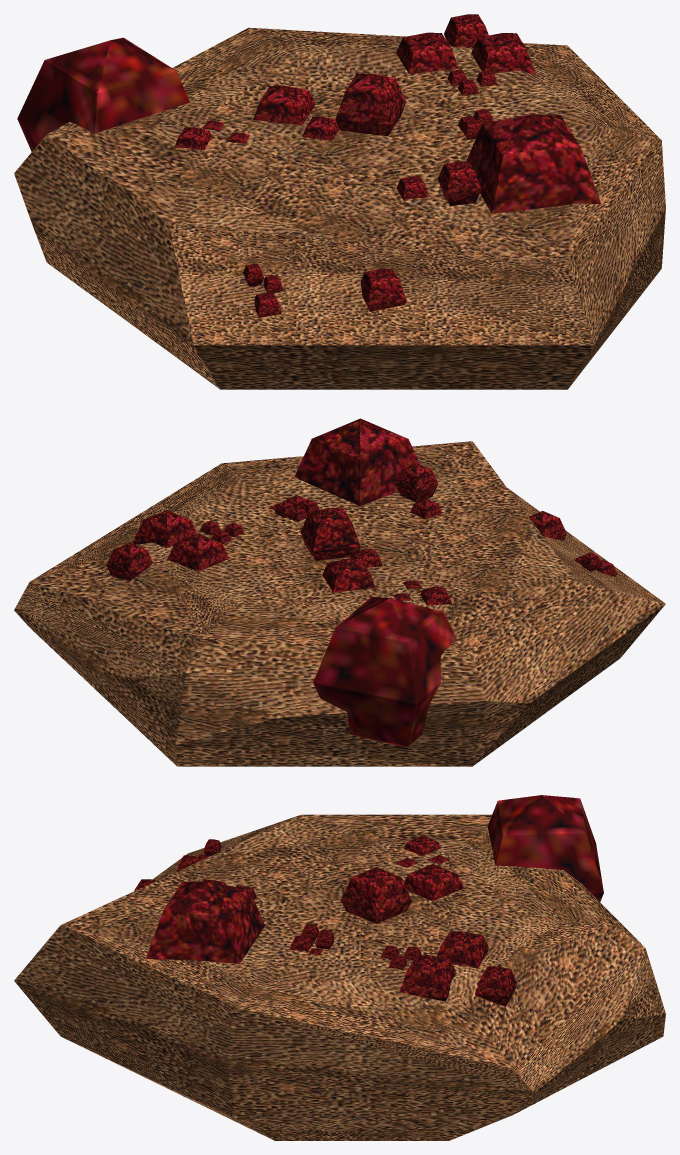
The model's file is Mushroom.glb.
3 renders of one model, top to bottom at view 1: azimuth 30°, elevation 25°; view 2: azimuth 150°, elevation 25°; view 3: azimuth 270°, elevation 25°, orthographic. The views are drawn at different scales.
Visible parts, largest first — view 1: Mushroom; view 2: Mushroom; view 3: Mushroom.
Boxes of the visible parts, bbox=[...] form: Mushroom: bbox=[14, 14, 665, 389]; Mushroom: bbox=[14, 418, 665, 766]; Mushroom: bbox=[14, 795, 665, 1140].
Bounding box in the file's own units: 1.63 × 0.7327 × 1.87.
Materials: 2 (2 with a texture image).
